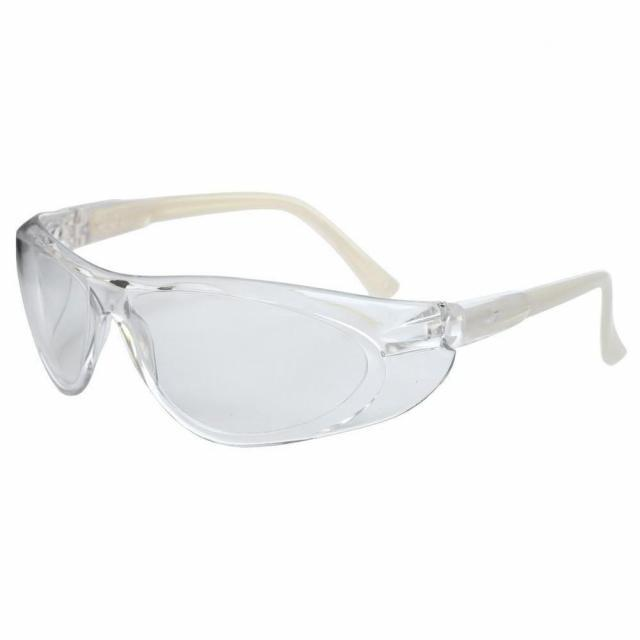Goggles: (9, 165, 636, 453)
